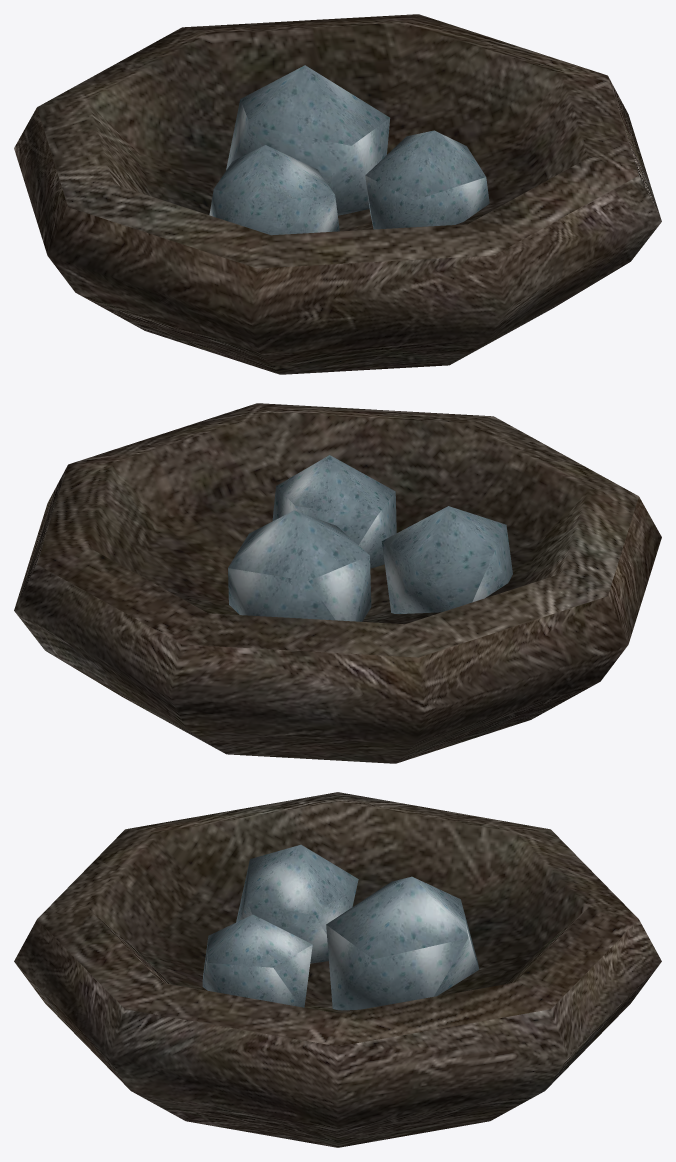
The model's file is GS_NATURE_NEST_01_GALI.glb.
3 views of the same model, one above another, from view 1: azimuth 30°, elevation 25°; view 2: azimuth 150°, elevation 25°; view 3: azimuth 270°, elevation 25° (orthographic). The views are drawn at different scales.
Visible parts, largest first — view 1: Mesh; view 2: Mesh; view 3: Mesh.
Part boxes in pixels (x1=…): Mesh: x1=14, y1=14, x2=661, y2=374; Mesh: x1=14, y1=403, x2=661, y2=763; Mesh: x1=14, y1=792, x2=661, y2=1147.
Bounding box in the file's own units: 0.4385 × 0.1615 × 0.4385.
Materials: 1 (1 with a texture image).
